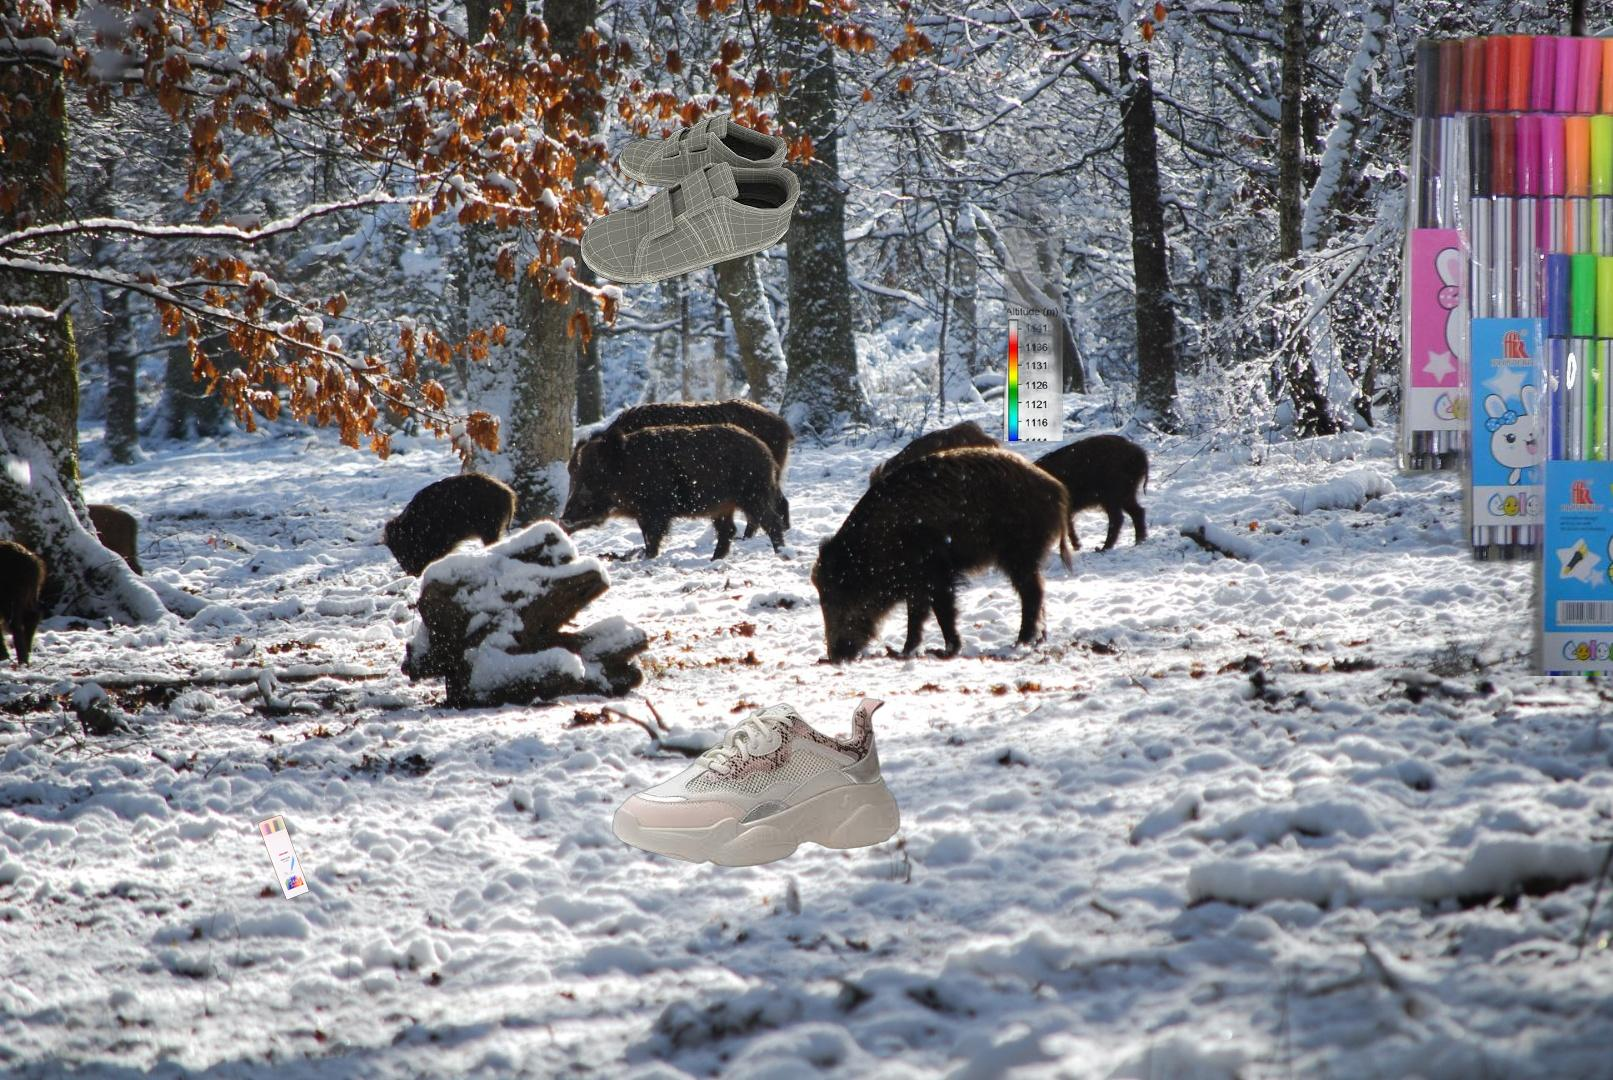penholder: (1385, 27, 1613, 676), (256, 812, 312, 903)
shoes: (612, 697, 903, 870), (577, 111, 803, 287)
trashbox-cardboard: (743, 121, 1063, 441)
